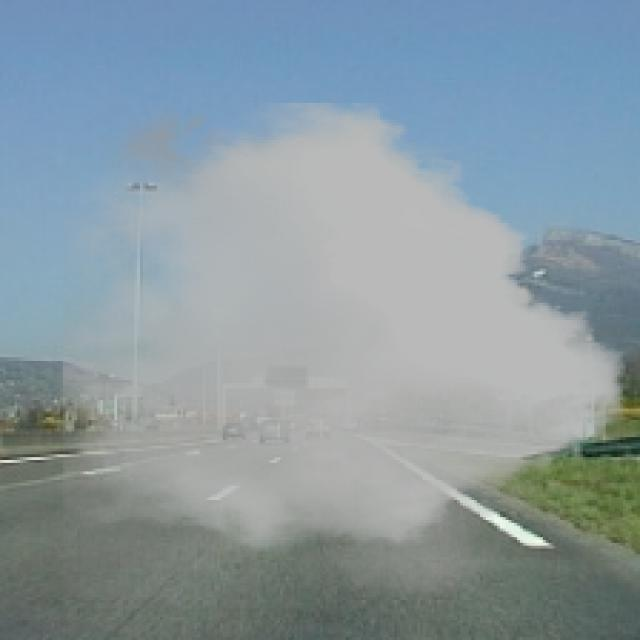Smoke: (63, 94, 626, 609)
